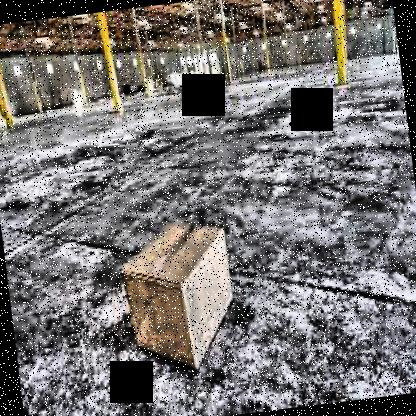no defect parcel: (100, 202, 259, 398)
